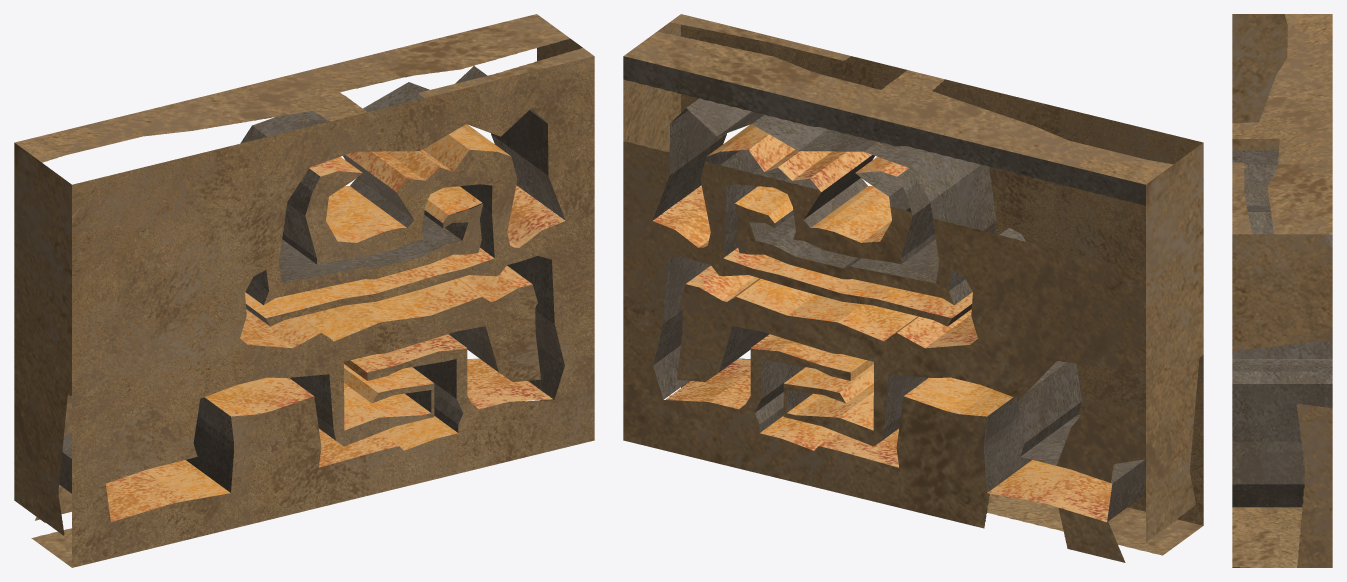
File: Level_Main.FBX
3 views of the same model, side by side, from view 1: azimuth 30°, elevation 25°; view 2: azimuth 150°, elevation 25°; view 3: azimuth 270°, elevation 25° (orthographic). The views are drawn at different scales.
Visible parts, largest first — view 1: Box001; view 2: Box001; view 3: Box001.
Boxes of the visible parts, x1=… form: Box001: x1=14, y1=14, x2=594, y2=567; Box001: x1=623, y1=14, x2=1203, y2=562; Box001: x1=1232, y1=14, x2=1332, y2=567.
Size of the model in its own units: 596 by 419 by 114.
